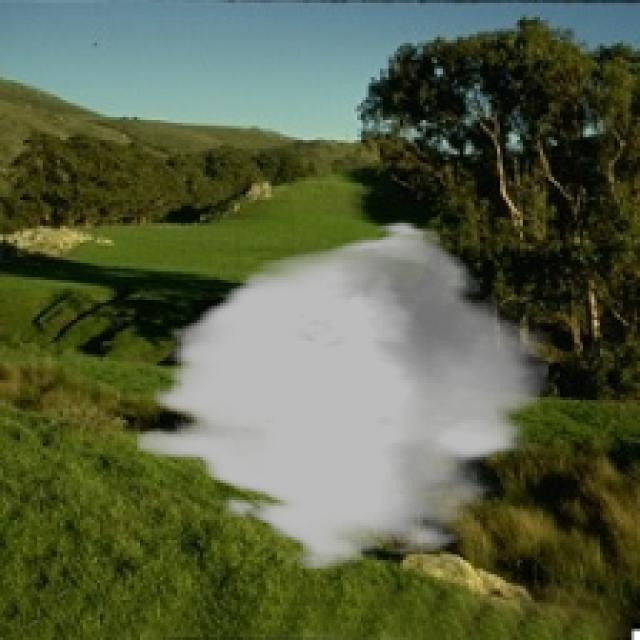smoke: (137, 220, 549, 571)
